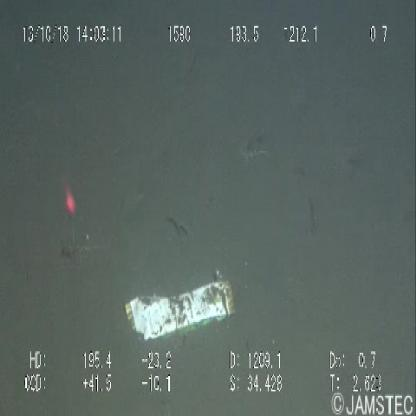Rác: (112, 260, 243, 350)
